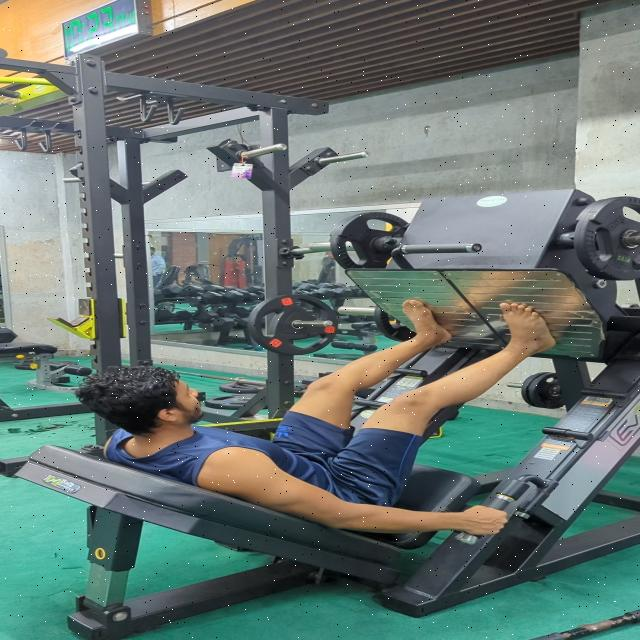Normal_LegPress: (56, 292, 578, 543)
